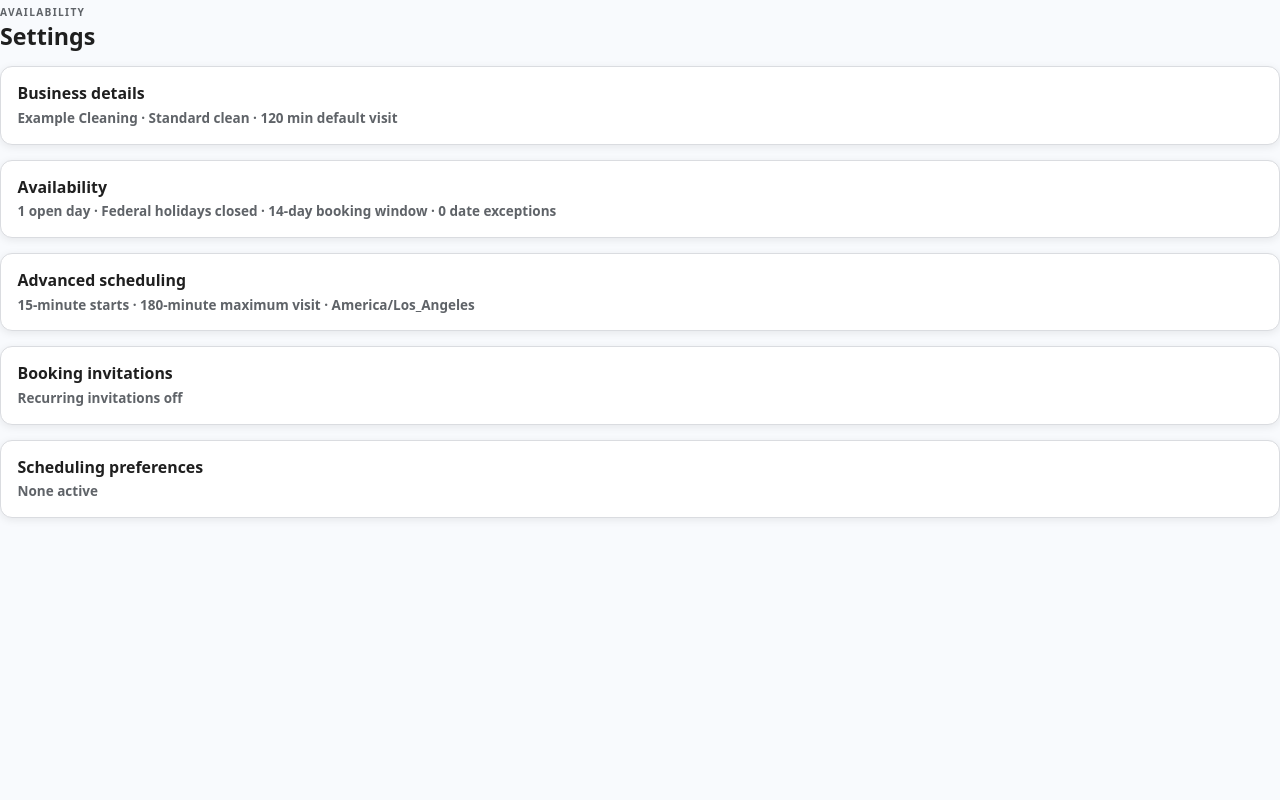
Test: owner Settings › shows five saved-value cards and opens Business details with collapsible sections
Expected: the button with aria-label "Edit Availability" shows "1 open day", x1=0 y1=160 x2=1279 y2=238
Expected: the button with aria-label "Edit Availability" shows "Federal holidays closed", x1=0 y1=160 x2=1279 y2=238
Click the button with aria-label "Edit Business details": (81,93) x1=0 y1=66 x2=1279 y2=144
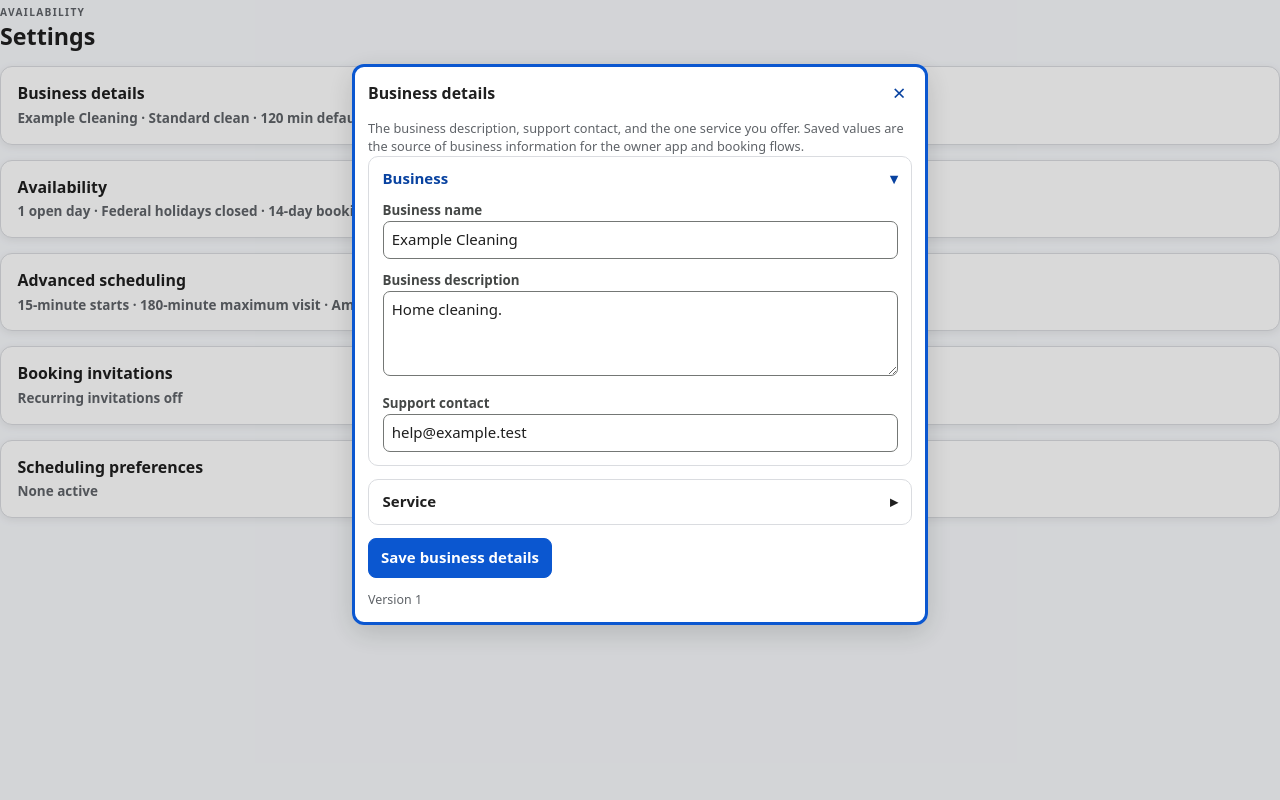
Now the dialog is shown, box x1=352 y1=64 x2=928 y2=625
Now the dialog shows "Business name", box x1=382 y1=201 x2=482 y2=219
Click the button "Service ▸": (409,501) x1=369 y1=480 x2=911 y2=524
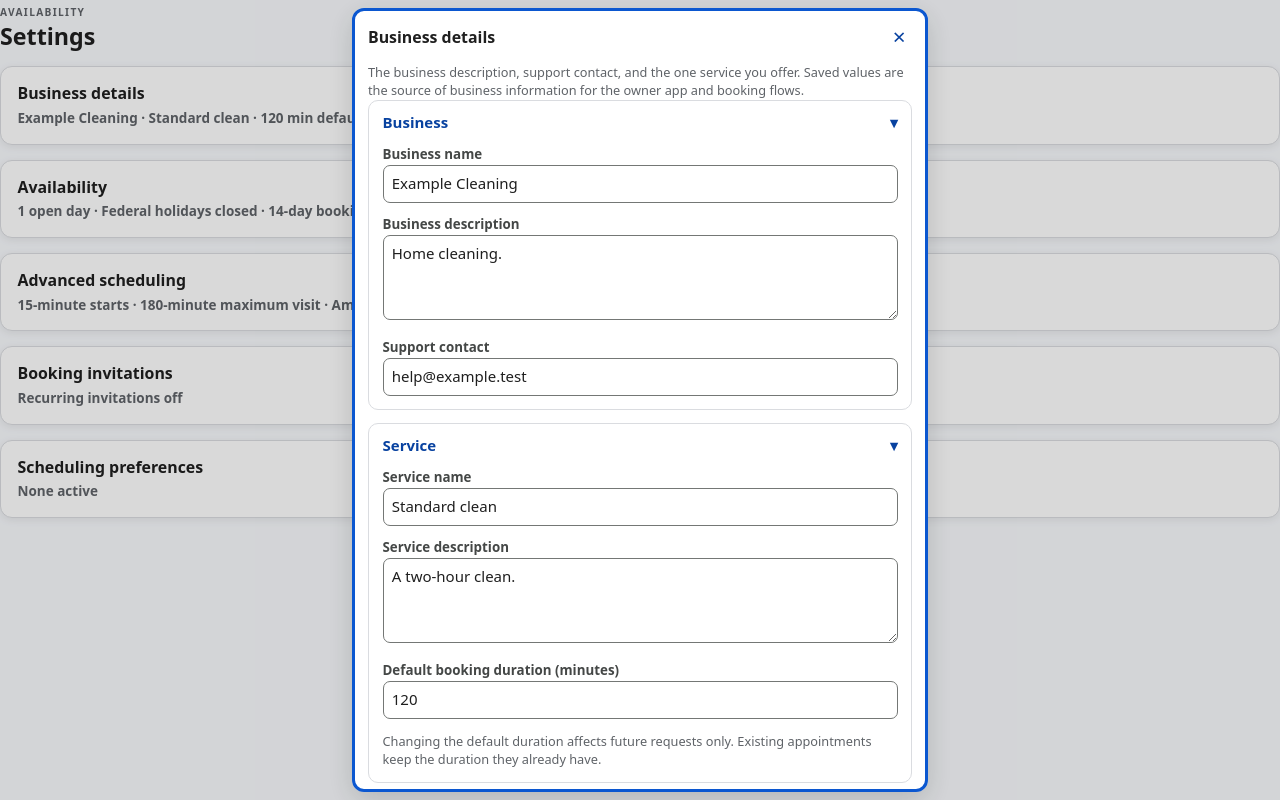
Now the button "Service ▾" is expanded, box x1=369 y1=424 x2=911 y2=468
